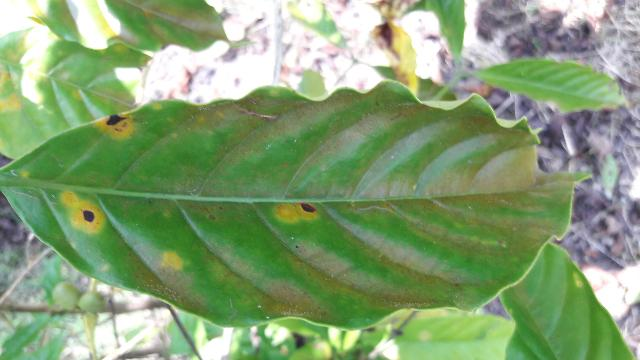rust_level_1: (0, 78, 590, 329)
